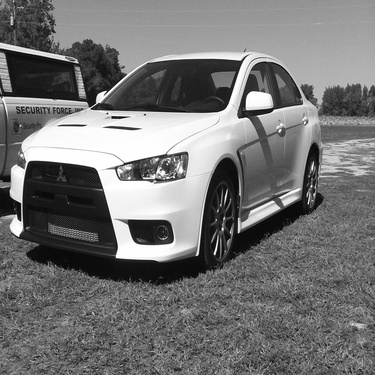car: (8, 44, 328, 289)
